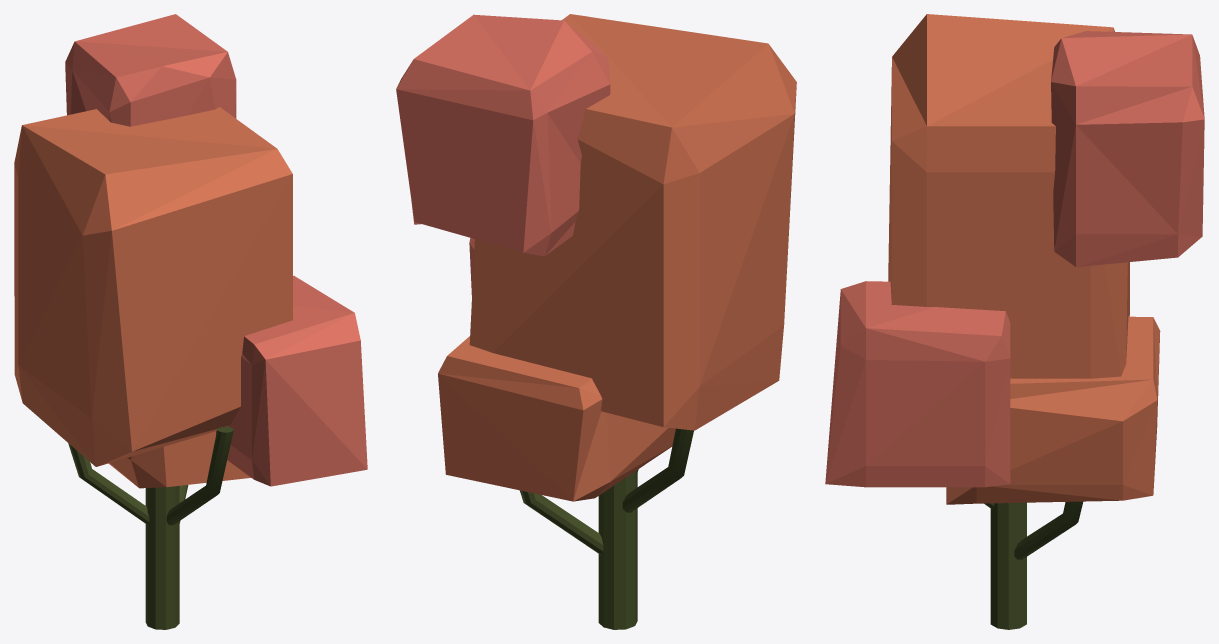
The model's file is Buisson.fbx.
The picture shows the model from 3 angles, left to right: view 1: azimuth 30°, elevation 25°; view 2: azimuth 150°, elevation 25°; view 3: azimuth 270°, elevation 25°; orthographic projection. The views are drawn at different scales.
Visible parts, largest first — view 1: Buisson; view 2: Buisson; view 3: Buisson.
Boxes of the visible parts, box(x1,y1,x2,y2) form: Buisson: box(14, 14, 367, 629); Buisson: box(396, 14, 796, 629); Buisson: box(825, 14, 1204, 629).
Size of the model in its own units: 84.94 by 173 by 99.56.
